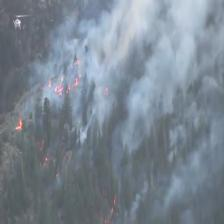smoke: (16, 0, 224, 224)
